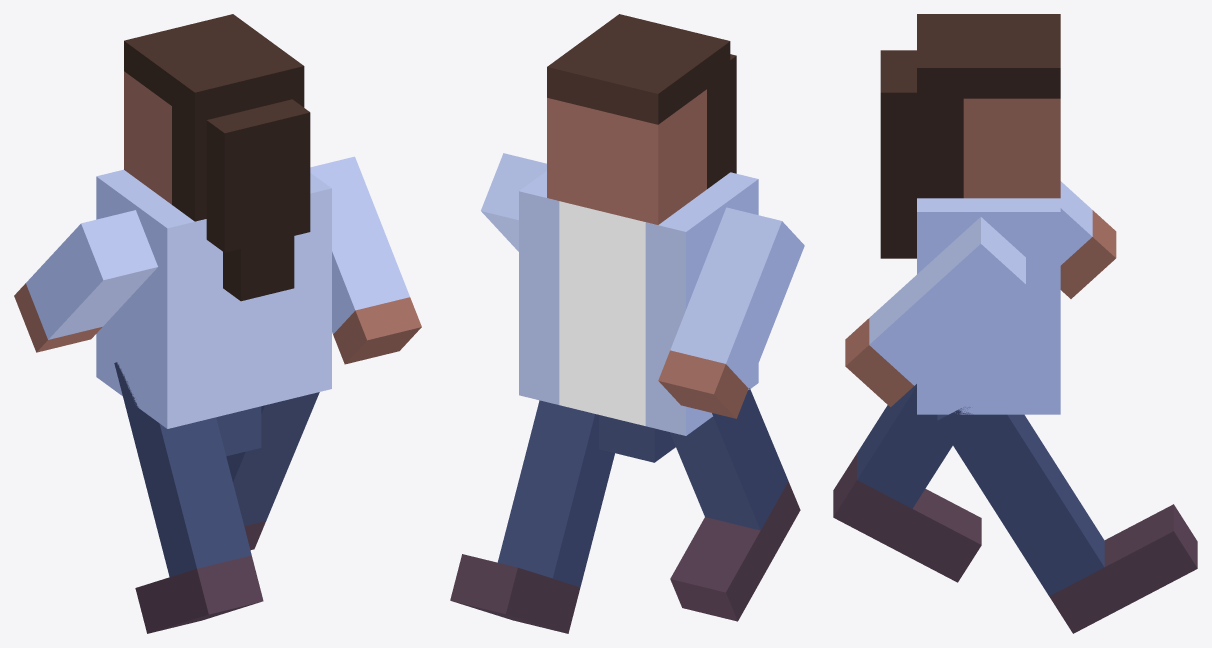
Rendered from new-person-jump-4.2.glb.
3 renders of one model, left to right at view 1: azimuth 30°, elevation 25°; view 2: azimuth 150°, elevation 25°; view 3: azimuth 270°, elevation 25°, orthographic.
Parts seen in each view (by area): view 1: UNIT.067, UNIT.076, UNIT.073, UNIT.074, UNIT.075; view 2: UNIT.067, UNIT.075, UNIT.076, UNIT.074, UNIT.073; view 3: UNIT.067, UNIT.075, UNIT.073, UNIT.076, UNIT.074.
Boxes of the visible parts, left/top/right/bottom form: UNIT.067: left=96, top=14, right=331, bottom=456; UNIT.076: left=114, top=362, right=263, bottom=633; UNIT.073: left=310, top=156, right=421, bottom=364; UNIT.074: left=14, top=210, right=157, bottom=352; UNIT.075: left=226, top=392, right=319, bottom=550; UNIT.067: left=519, top=14, right=758, bottom=462; UNIT.075: left=450, top=400, right=614, bottom=633; UNIT.076: left=670, top=388, right=800, bottom=621; UNIT.074: left=658, top=207, right=804, bottom=418; UNIT.073: left=481, top=153, right=546, bottom=251; UNIT.067: left=880, top=14, right=1060, bottom=445; UNIT.075: left=937, top=407, right=1197, bottom=633; UNIT.073: left=845, top=217, right=1025, bottom=407; UNIT.076: left=833, top=384, right=981, bottom=582; UNIT.074: left=1060, top=181, right=1116, bottom=298.
Size of the model in its own units: 0.7001 by 1.34 by 0.7982.
1 material, 1 textured.
